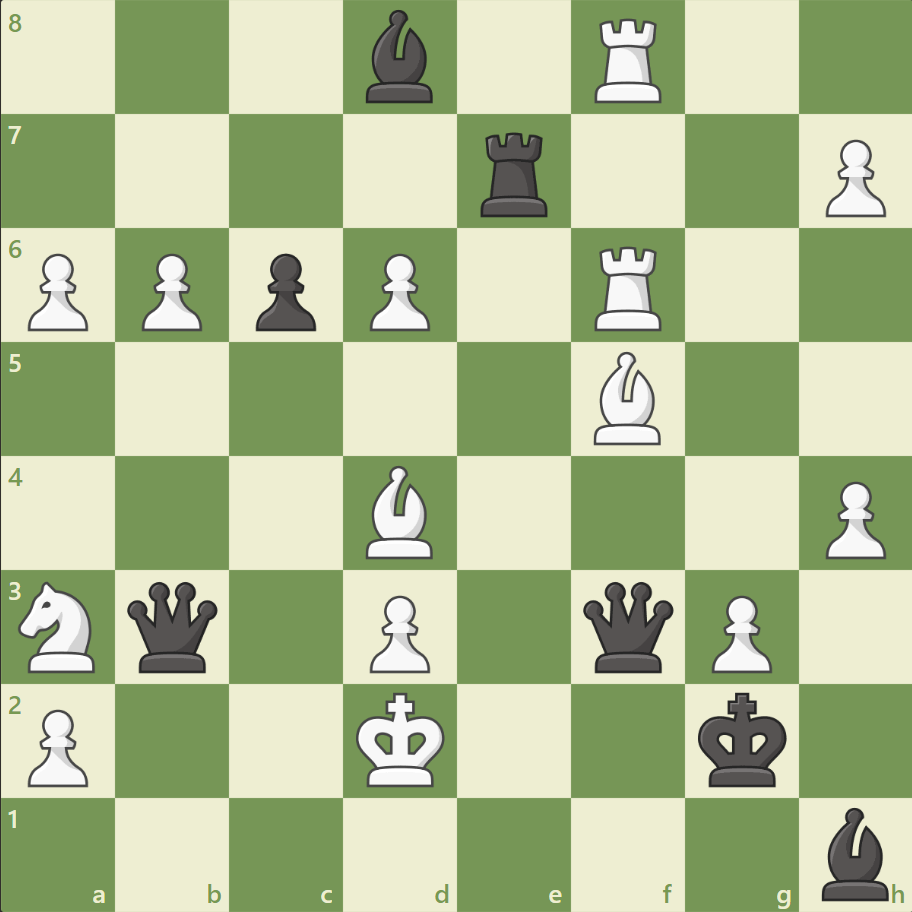B: (358, 460, 442, 563), (585, 347, 669, 449)
K: (351, 685, 451, 793)
N: (11, 575, 108, 677)
P: (20, 246, 95, 337), (133, 246, 208, 337), (701, 586, 776, 677), (20, 700, 95, 791), (815, 132, 889, 223), (361, 246, 435, 337), (815, 473, 889, 564), (361, 586, 435, 677)
R: (587, 12, 670, 109), (587, 239, 670, 336)
b: (358, 6, 442, 109), (812, 801, 896, 904)
k: (692, 685, 792, 793)
p: (247, 246, 322, 337)
q: (124, 576, 223, 676), (578, 576, 677, 676)
r: (473, 125, 556, 222)
